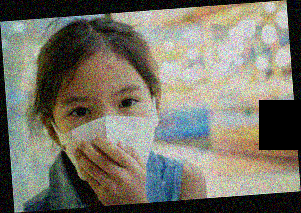with_mask: (56, 84, 159, 183)
